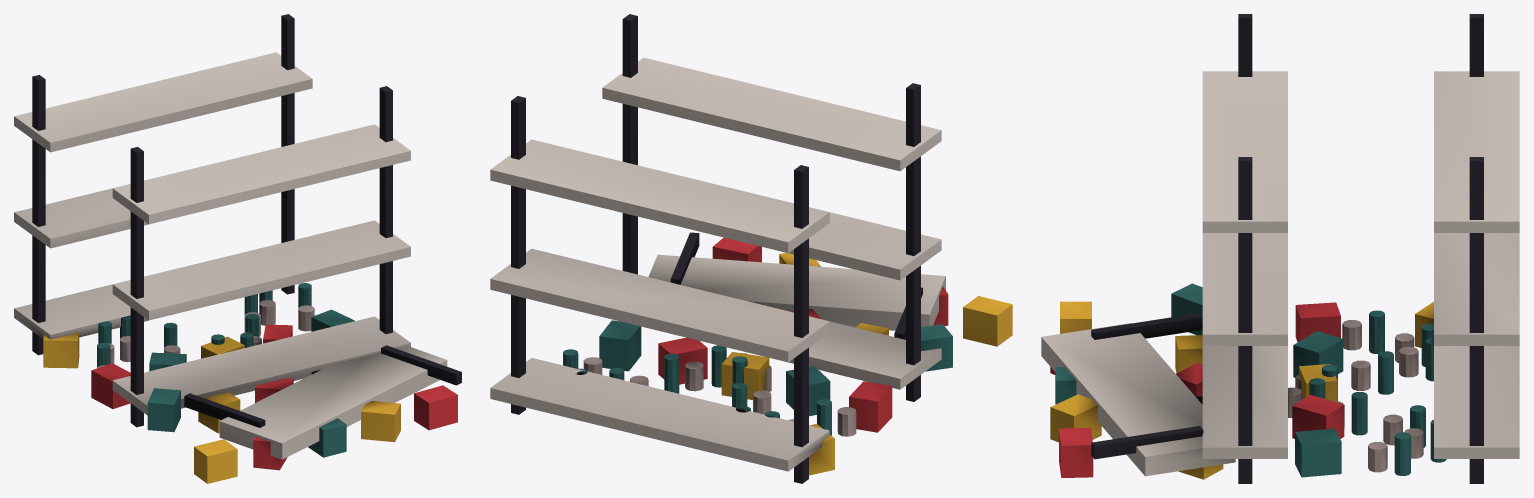
The picture shows the model from 3 angles, left to right: view 1: azimuth 30°, elevation 25°; view 2: azimuth 150°, elevation 25°; view 3: azimuth 270°, elevation 25°; orthographic projection. The views are drawn at different scales.
Parts seen in each view (by area): view 1: body_pal_picketWhite, body_pal_uiDark, body_pal_backpackTeal, body_pal_schoolBusYellow, body_pal_survivorRed, body_pal_sidewalk; view 2: body_pal_picketWhite, body_pal_uiDark, body_pal_backpackTeal, body_pal_schoolBusYellow, body_pal_survivorRed, body_pal_sidewalk; view 3: body_pal_picketWhite, body_pal_uiDark, body_pal_backpackTeal, body_pal_survivorRed, body_pal_schoolBusYellow, body_pal_sidewalk.
Boxes of the visible parts, x1=… form: body_pal_picketWhite: x1=14, y1=52, x2=447, y2=459; body_pal_uiDark: x1=32, y1=14, x2=461, y2=427; body_pal_backpackTeal: x1=97, y1=283, x2=354, y2=457; body_pal_schoolBusYellow: x1=43, y1=333, x2=400, y2=483; body_pal_survivorRed: x1=91, y1=324, x2=457, y2=470; body_pal_sidewalk: x1=97, y1=300, x2=314, y2=368; body_pal_picketWhite: x1=490, y1=57, x2=945, y2=471; body_pal_uiDark: x1=511, y1=14, x2=922, y2=483; body_pal_backpackTeal: x1=563, y1=320, x2=952, y2=435; body_pal_schoolBusYellow: x1=721, y1=253, x2=1012, y2=475; body_pal_survivorRed: x1=658, y1=237, x2=948, y2=432; body_pal_sidewalk: x1=583, y1=353, x2=856, y2=436; body_pal_picketWhite: x1=1041, y1=71, x2=1519, y2=476; body_pal_uiDark: x1=1091, y1=14, x2=1483, y2=483; body_pal_backpackTeal: x1=1055, y1=283, x2=1446, y2=477; body_pal_survivorRed: x1=1050, y1=302, x2=1344, y2=477; body_pal_schoolBusYellow: x1=1050, y1=301, x2=1433, y2=479; body_pal_sidewalk: x1=1288, y1=320, x2=1423, y2=472.
Size of the model in its own units: 2.14 by 2 by 2.69.
